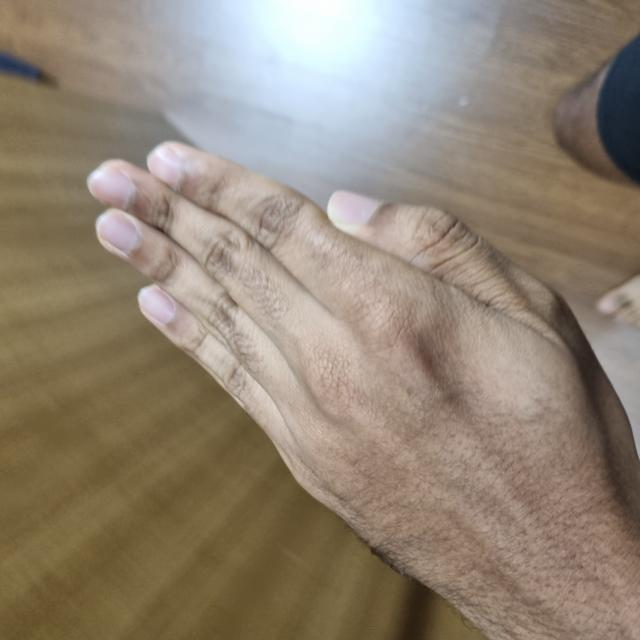Paper: (9, 95, 498, 632)
